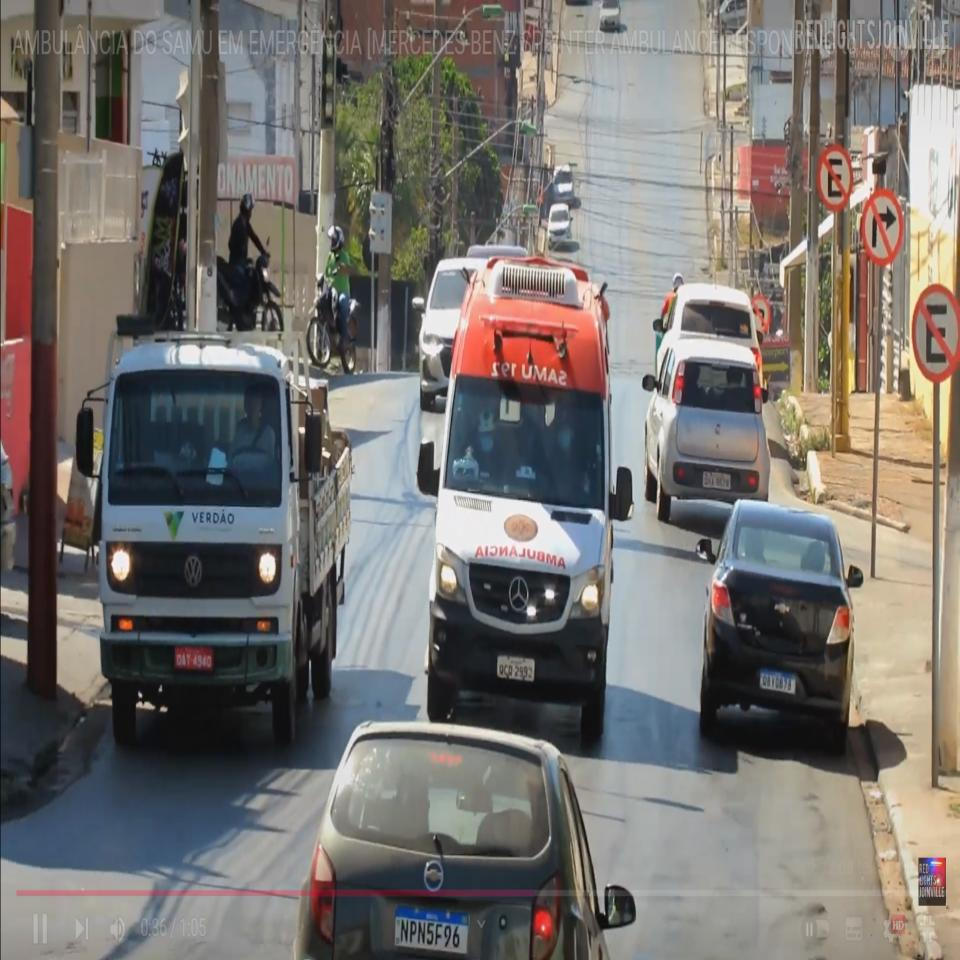bombeiro: (414, 249, 636, 744)
